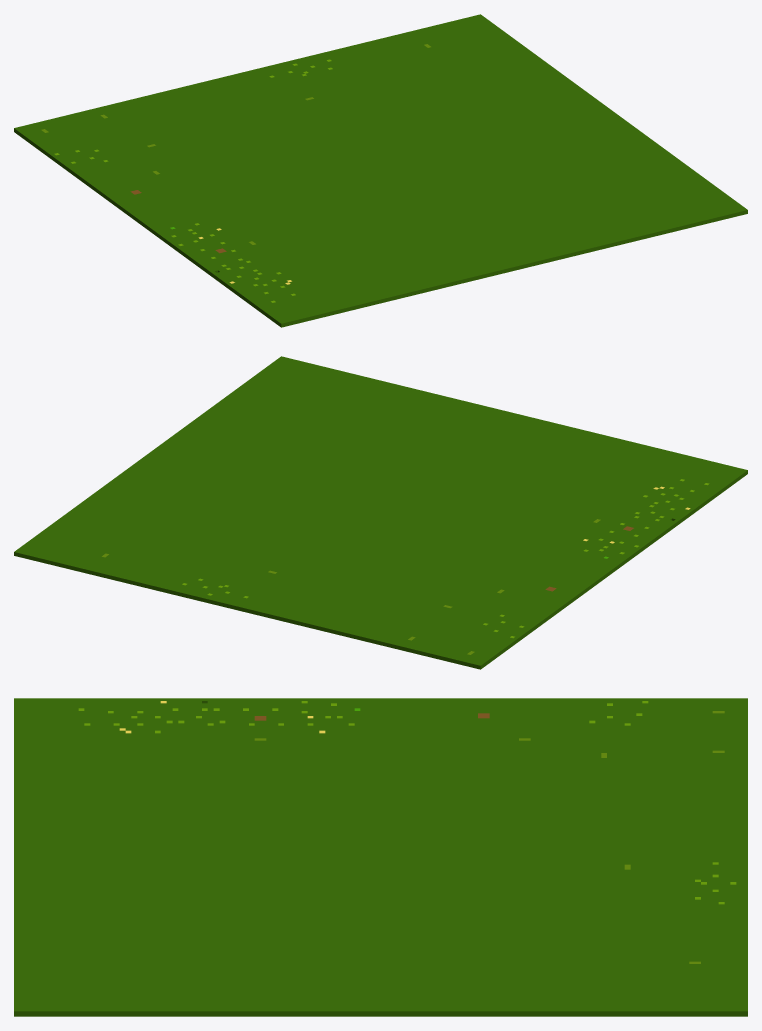
Rendered from tiles 0 sol.obj.
3 renders of one model, top to bottom at view 1: azimuth 30°, elevation 25°; view 2: azimuth 150°, elevation 25°; view 3: azimuth 270°, elevation 25°, orthographic. The views are drawn at different scales.
Parts seen in each view (by area): view 1: tiles 0 sol; view 2: tiles 0 sol; view 3: tiles 0 sol.
Part boxes in pixels (x1=…): tiles 0 sol: x1=14, y1=14, x2=747, y2=327; tiles 0 sol: x1=14, y1=356, x2=747, y2=669; tiles 0 sol: x1=14, y1=698, x2=747, y2=1016.
Size of the model in its own units: 126 by 1 by 125.
Materials: 1 (1 with a texture image).
